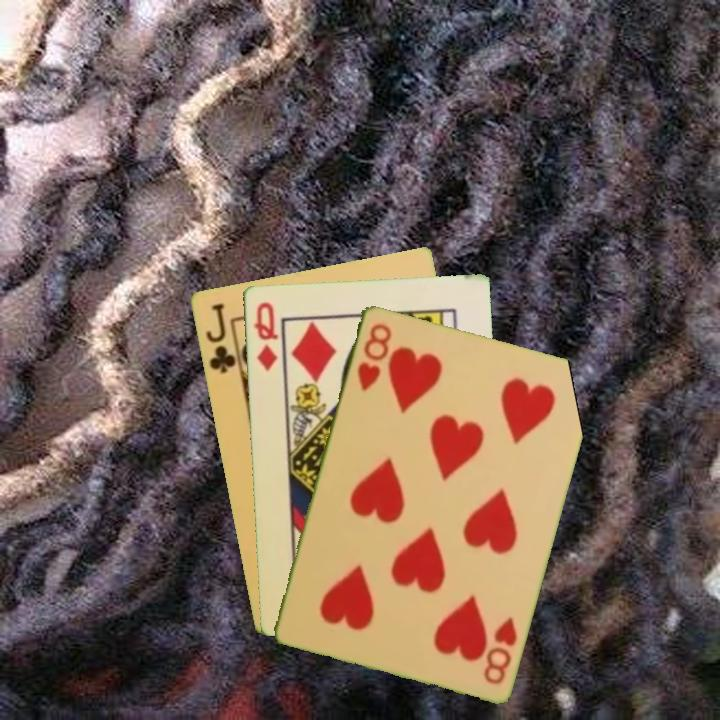8h: (353, 319, 394, 394), (479, 612, 520, 687)
Jc: (202, 299, 239, 376)
Qd: (249, 298, 280, 373)
